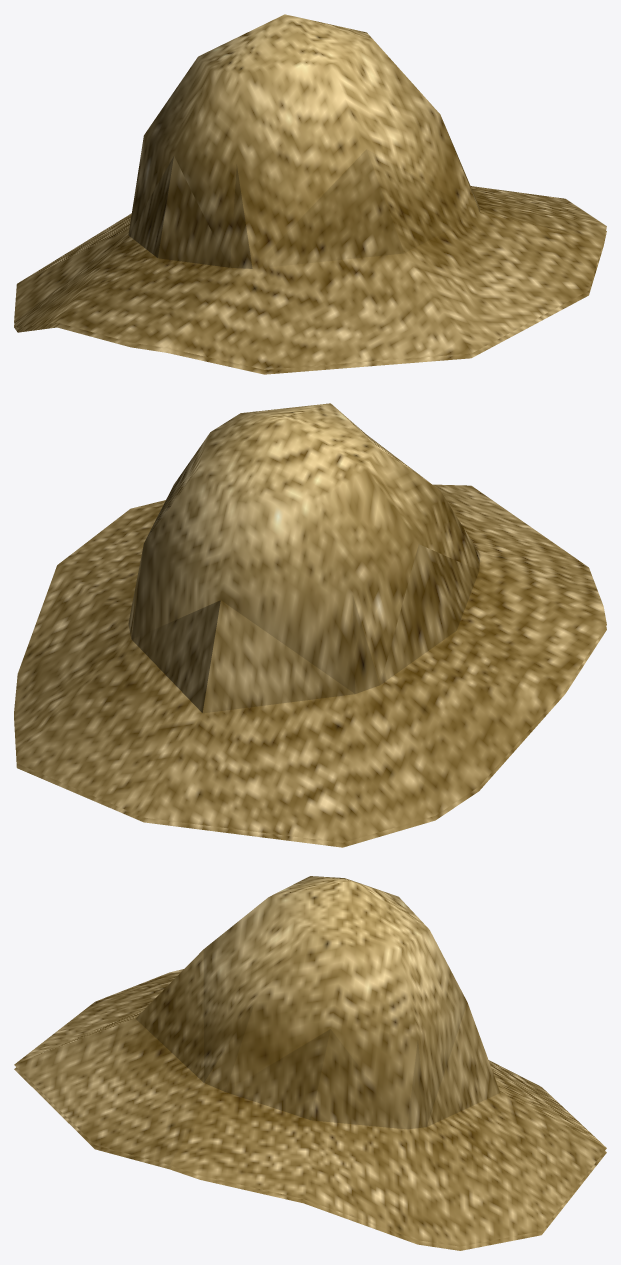
File: kart_straw.dae
3 views of the same model, one above another, from view 1: azimuth 30°, elevation 25°; view 2: azimuth 150°, elevation 25°; view 3: azimuth 270°, elevation 25° (orthographic). The views are drawn at different scales.
Parts seen in each view (by area): view 1: straw_hat; view 2: straw_hat; view 3: straw_hat.
Part boxes in pixels (bbox=[...]): straw_hat: bbox=[14, 14, 606, 374]; straw_hat: bbox=[14, 403, 606, 847]; straw_hat: bbox=[14, 876, 606, 1250].
Bounding box in the file's own units: 0.9069 × 0.531 × 1.01.
